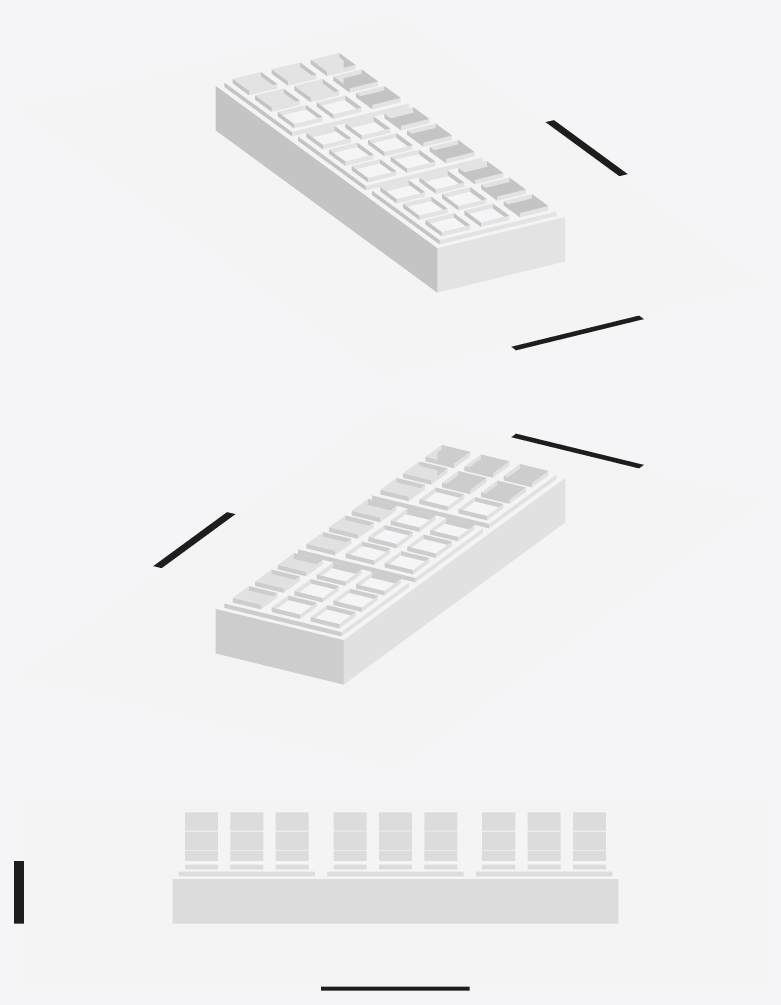
File: northwest-ceilng.glb
3 renders of one model, top to bottom at view 1: azimuth 30°, elevation 25°; view 2: azimuth 150°, elevation 25°; view 3: azimuth 270°, elevation 25°, orthographic.
Visible parts, largest first — view 1: HallNorthwest_Ceiling; view 2: HallNorthwest_Ceiling; view 3: HallNorthwest_Ceiling.
Part boxes in pixels (<box>): HallNorthwest_Ceiling: <box>14,14,766,377</box>; HallNorthwest_Ceiling: <box>14,406,766,769</box>; HallNorthwest_Ceiling: <box>14,798,766,990</box>.
Bounding box in the file's own units: 9.2 × 1.2 × 15.2.
Materials: 1 (1 with a texture image).
